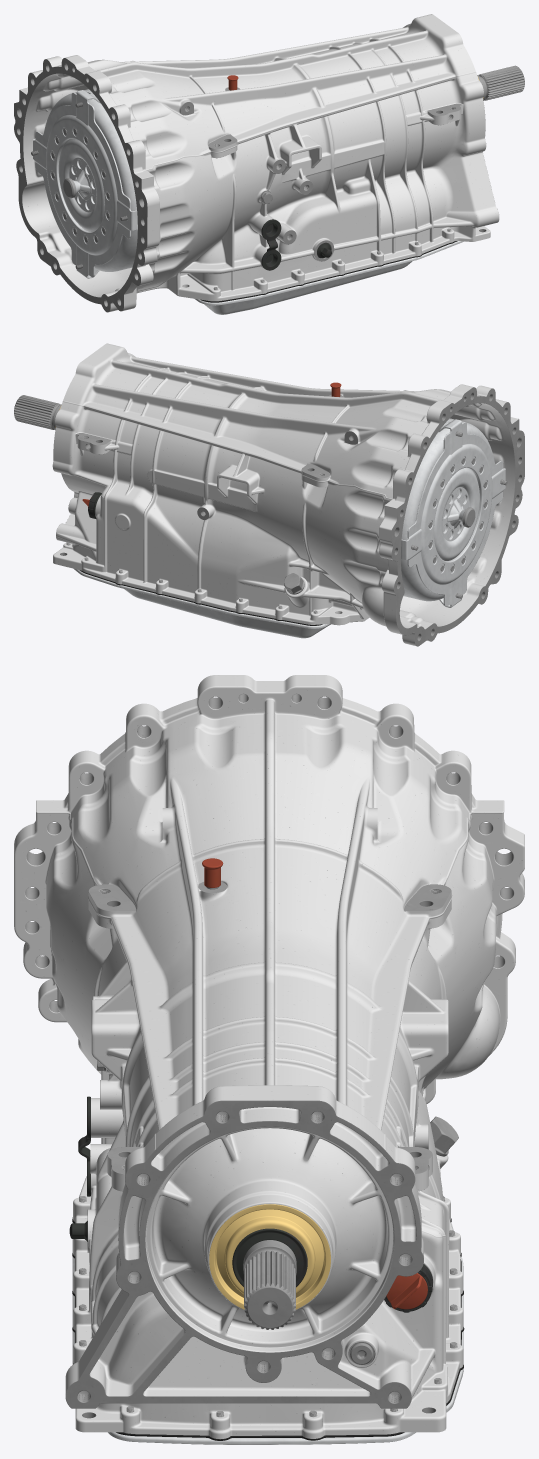
Rendered from drivetrain_transmission_auto_a01.glb.
3 views of the same model, one above another, from view 1: azimuth 30°, elevation 25°; view 2: azimuth 150°, elevation 25°; view 3: azimuth 270°, elevation 25° (orthographic). The views are drawn at different scales.
Parts seen in each view (by area): view 1: body_01_mesh_00, shaft_01_mesh_00; view 2: body_01_mesh_00, shaft_01_mesh_00; view 3: body_01_mesh_00, shaft_01_mesh_00, cap_01_mesh_00.
Part boxes in pixels (box(x1,y1,x2,y2)): body_01_mesh_00: box(14, 14, 499, 314); shaft_01_mesh_00: box(477, 65, 524, 100); body_01_mesh_00: box(52, 343, 524, 646); shaft_01_mesh_00: box(14, 395, 61, 429); body_01_mesh_00: box(14, 675, 524, 1444); shaft_01_mesh_00: box(243, 1240, 296, 1329); cap_01_mesh_00: box(386, 1273, 427, 1309).
Size of the model in its own units: 0.782 by 0.431 by 0.4004.
7 materials, 6 textured.
